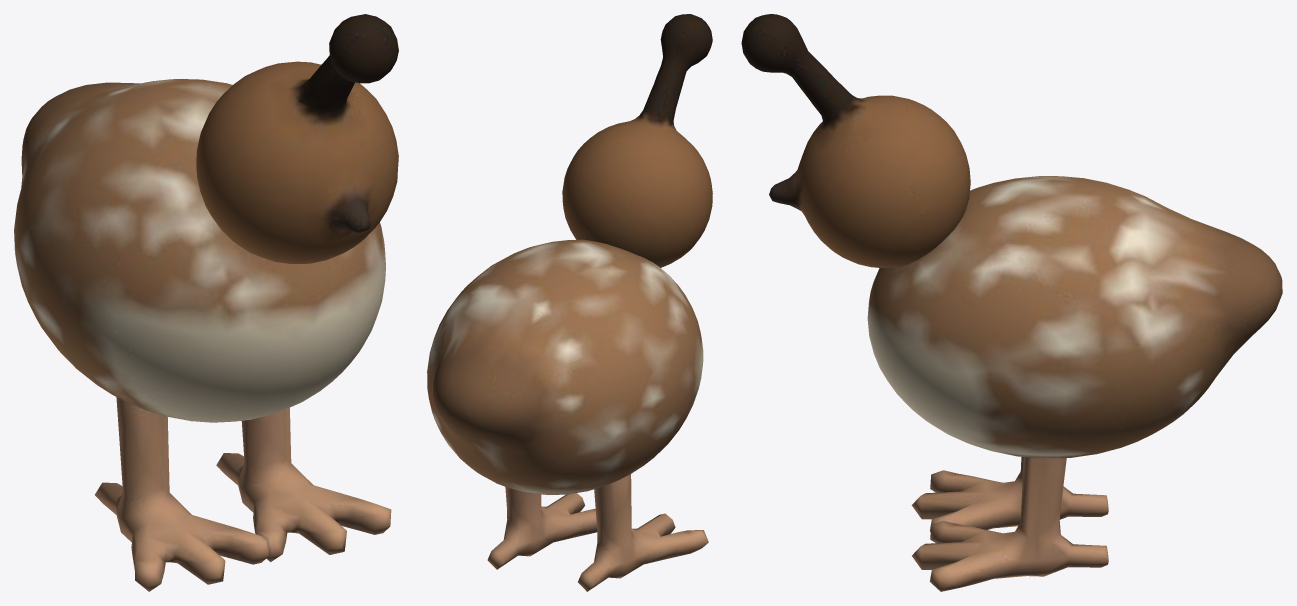
Rendered from animal_quail.glb.
3 renders of one model, left to right at view 1: azimuth 30°, elevation 25°; view 2: azimuth 150°, elevation 25°; view 3: azimuth 270°, elevation 25°, orthographic. The views are drawn at different scales.
Parts seen in each view (by area): view 1: animal_quail, head, leg0, leg1; view 2: animal_quail, head, leg0, leg1; view 3: animal_quail, head, leg1, leg0.
Part boxes in pixels (box(x1,y1,x2,y2)): animal_quail: box(14, 79, 385, 422); head: box(196, 14, 398, 263); leg0: box(95, 397, 268, 591); leg1: box(216, 407, 391, 561); animal_quail: box(427, 239, 703, 494); head: box(562, 14, 712, 267); leg0: box(578, 474, 708, 591); leg1: box(487, 487, 597, 569); animal_quail: box(867, 176, 1282, 457); head: box(741, 14, 970, 267); leg1: box(912, 457, 1108, 591); leg0: box(911, 457, 1108, 531).
Size of the model in its own units: 0.09 by 0.1769 by 0.1628.
1 material, 1 textured.
